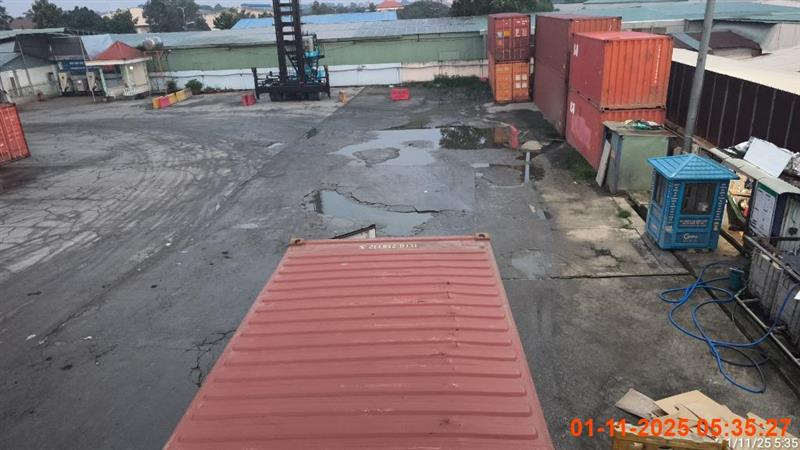dent: (165, 234, 555, 444)
